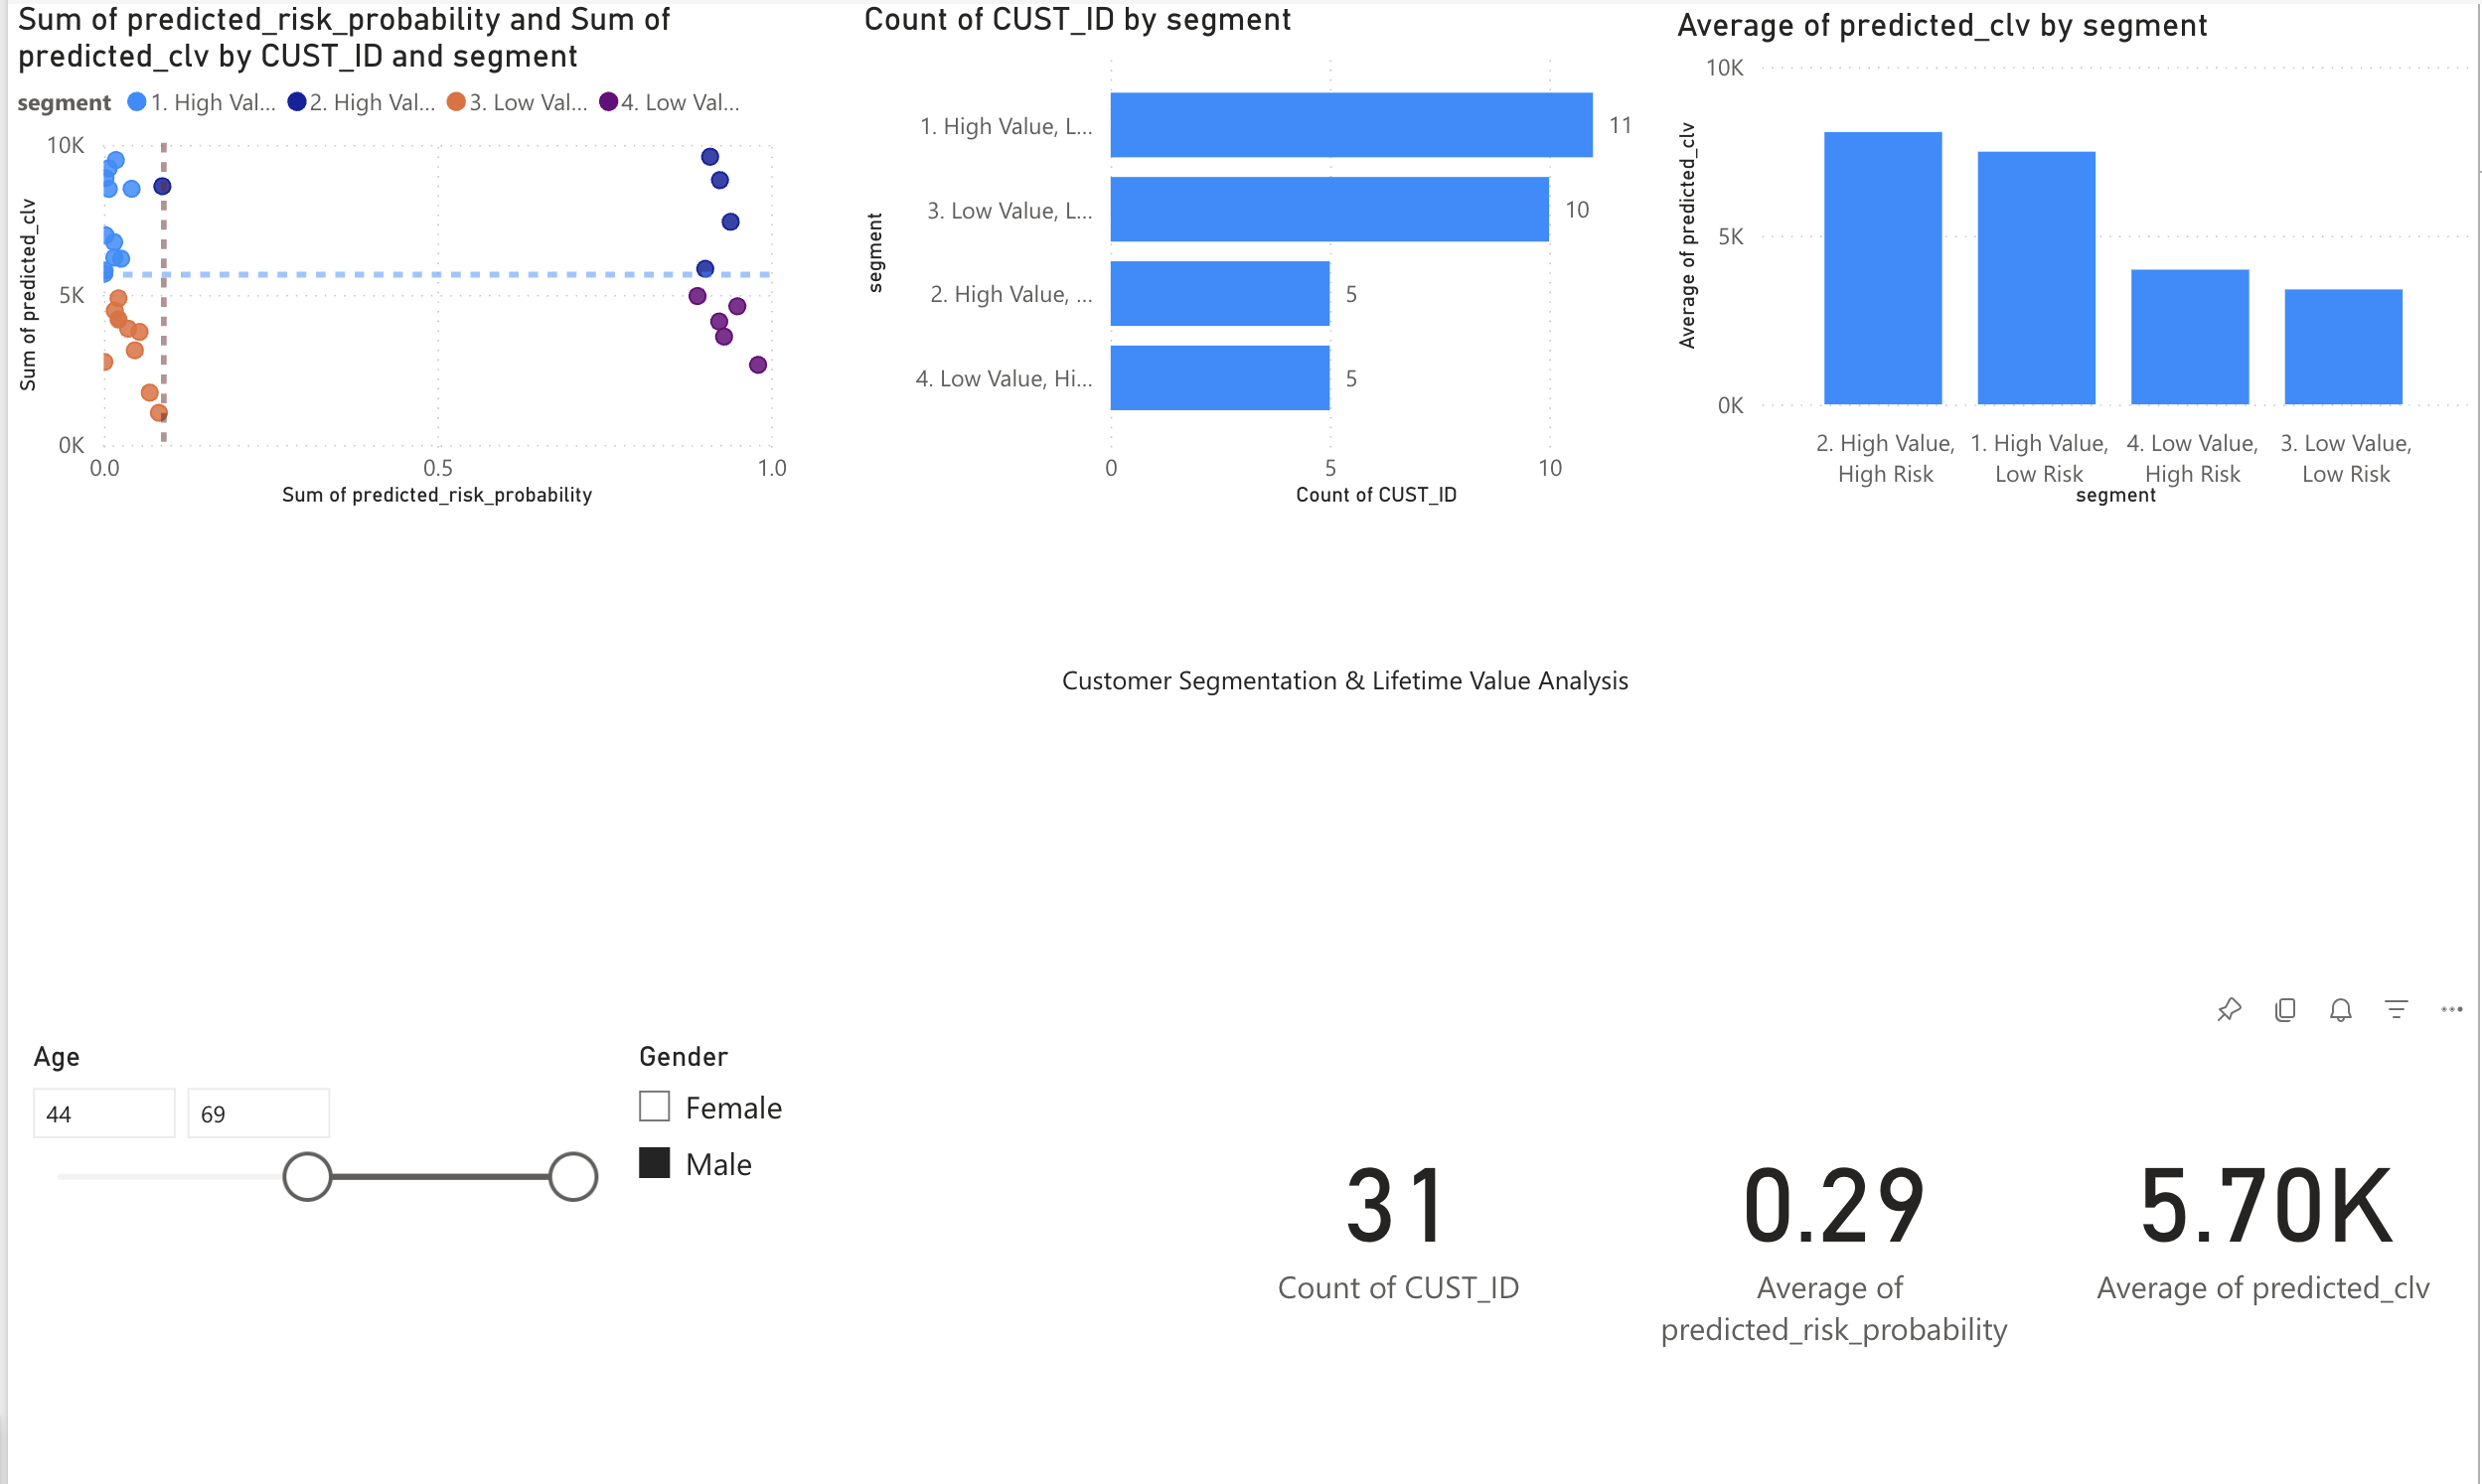

What the dashboard file says about the page in this screenshot:
{"tool":"powerbi","page":{"name":"Page 1","canvas":[1280,720],"ordinal":0},"visuals":[{"type":"scatterChart","fields":{"X":["Sum(customer_segments_for_power_bi.predicted_risk_probability)"],"Y":["Sum(customer_segments_for_power_bi.predicted_clv)"],"Category":["customer_segments_for_power_bi.CUST_ID"],"Series":["customer_segments_for_power_bi.segment"]},"box":[0,0,408.4,265.1],"z":0},{"type":"barChart","fields":{"Category":["customer_segments_for_power_bi.segment"],"Y":["CountNonNull(customer_segments_for_power_bi.CUST_ID)"]},"box":[438.9,0,420.6,265.1],"z":1},{"type":"card","fields":{"Values":["Avg(customer_segments_for_power_bi.predicted_risk_probability)"]},"box":[835,533.3,222.5,185.9],"z":2},{"type":"card","fields":{"Values":["Avg(customer_segments_for_power_bi.predicted_clv)"]},"box":[1057.5,533.3,222.5,185.9],"z":3},{"type":"card","fields":{"Values":["Count(customer_segments_for_power_bi.CUST_ID)"]},"box":[606.5,533.3,228.6,185.9],"z":4},{"type":"clusteredColumnChart","fields":{"Category":["customer_segments_for_power_bi.segment"],"Y":["Avg(customer_segments_for_power_bi.predicted_clv)"]},"box":[859.4,3,420.6,262.1],"z":5},{"type":"slicer","fields":{"Values":["customer_segments_for_power_bi.Gender"]},"box":[313.9,533.3,292.6,185.9],"z":6},{"type":"slicer","fields":{"Values":["customer_segments_for_power_bi.Age"]},"box":[0,533.3,313.9,185.9],"z":7},{"type":"textbox","box":[438.9,335.2,509,97.5],"z":8}]}

Visuals, with their boxes on the page's 1280x720 design canvas (x1, y1, x2, y2). These are canvas units, not pixel positions in the 2482x1484 screenshot, which may show the page scaled, cropped or inside an application window:
scatterChart - Sum(customer_segments_for_power_bi.predicted_risk_probability) x Sum(customer_segments_for_power_bi.predicted_clv): x1=0, y1=0, x2=408, y2=265
barChart - customer_segments_for_power_bi.segment x CountNonNull(customer_segments_for_power_bi.CUST_ID): x1=439, y1=0, x2=860, y2=265
card - Avg(customer_segments_for_power_bi.predicted_risk_probability): x1=835, y1=533, x2=1058, y2=719
card - Avg(customer_segments_for_power_bi.predicted_clv): x1=1058, y1=533, x2=1280, y2=719
card - Count(customer_segments_for_power_bi.CUST_ID): x1=606, y1=533, x2=835, y2=719
clusteredColumnChart - customer_segments_for_power_bi.segment x Avg(customer_segments_for_power_bi.predicted_clv): x1=859, y1=3, x2=1280, y2=265
slicer - customer_segments_for_power_bi.Gender: x1=314, y1=533, x2=606, y2=719
slicer - customer_segments_for_power_bi.Age: x1=0, y1=533, x2=314, y2=719
textbox: x1=439, y1=335, x2=948, y2=433
